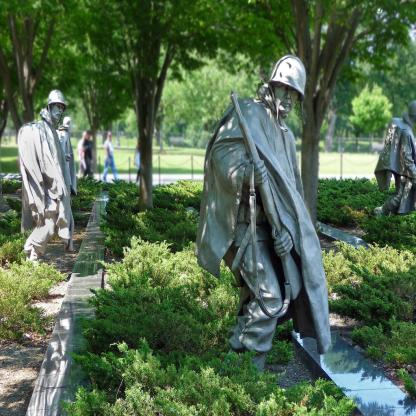Helmet: (271, 53, 304, 118), (45, 90, 66, 128), (409, 99, 416, 115), (63, 116, 72, 128)
